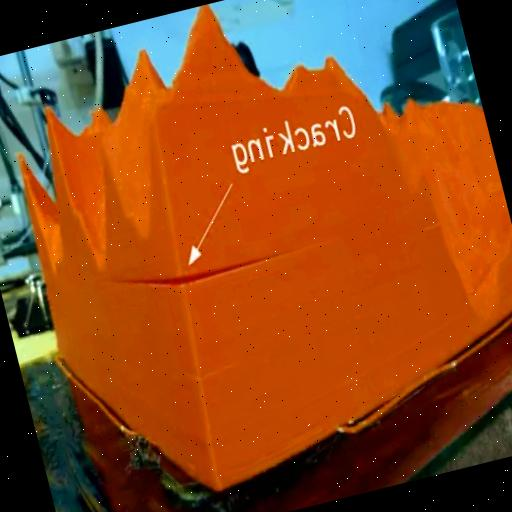cracks: (104, 232, 290, 328), (174, 352, 242, 399)
